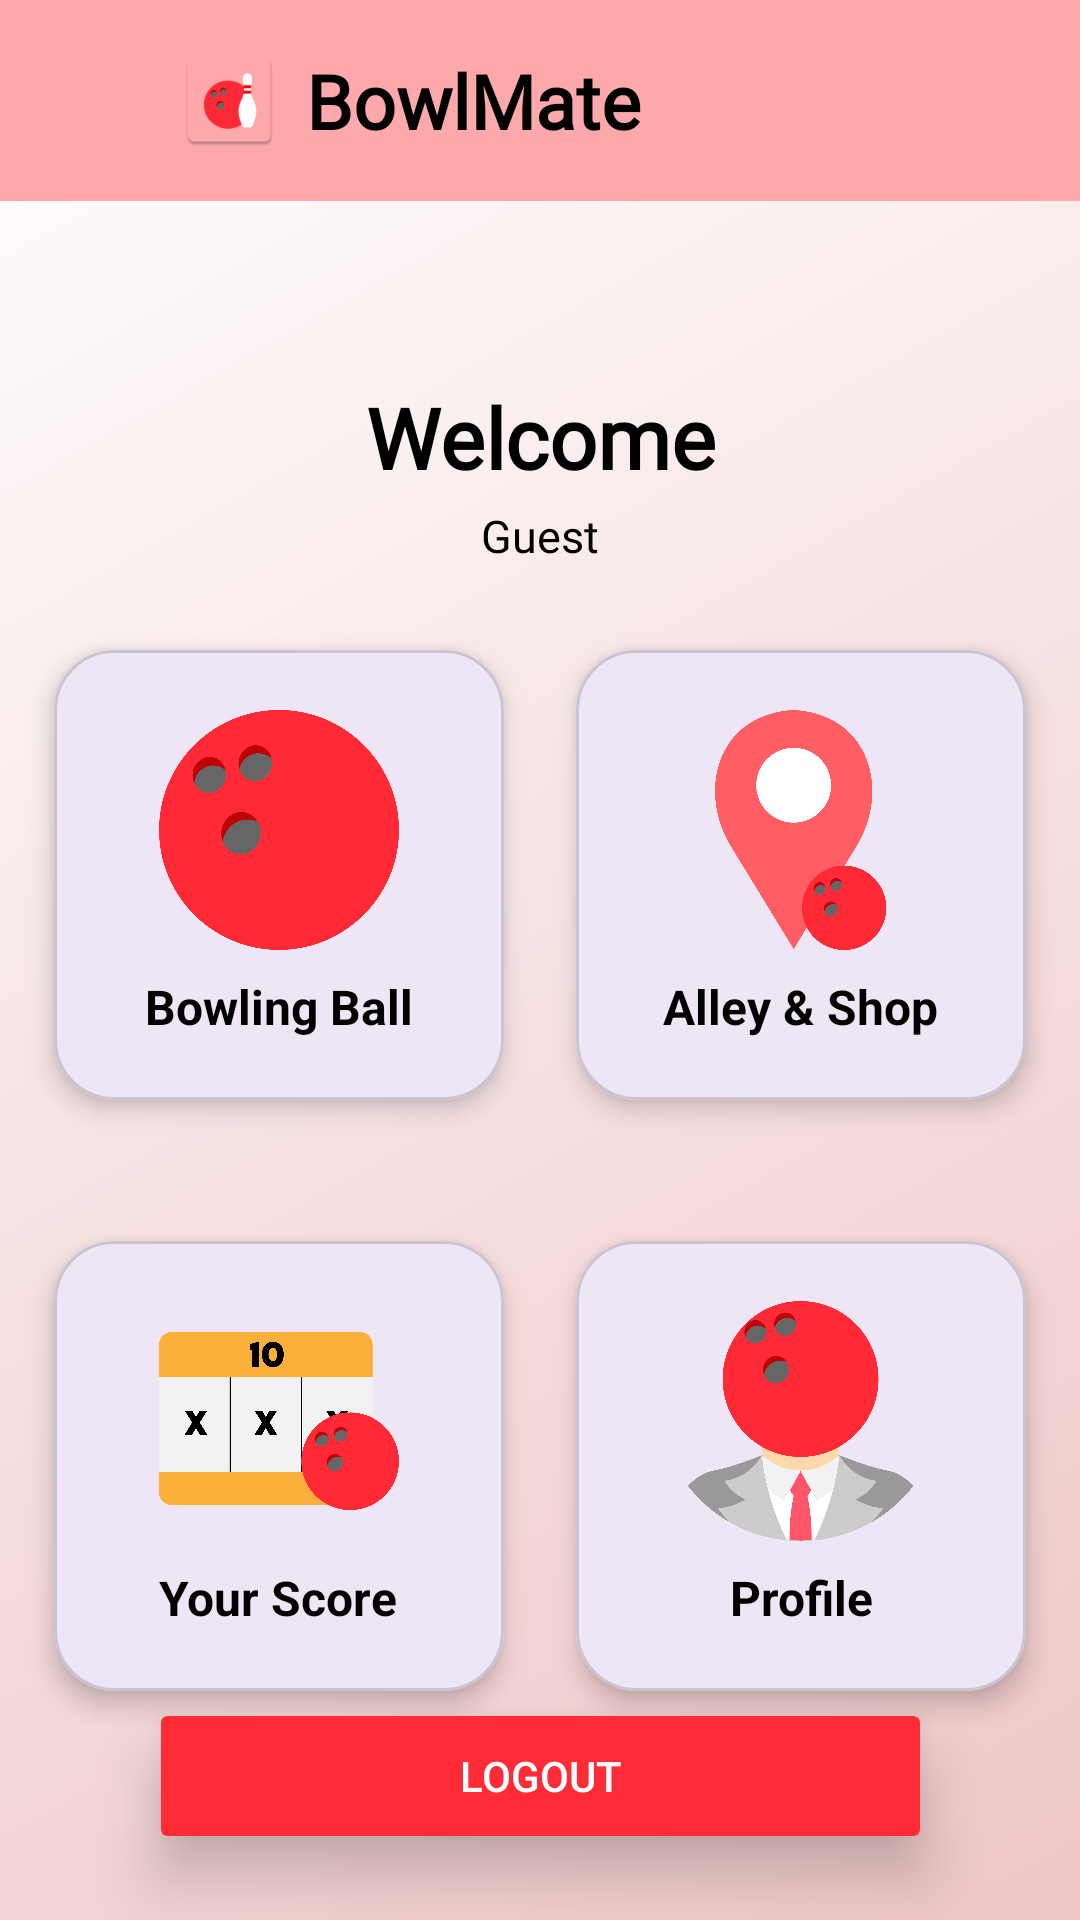

Screen size 1080x1920. Icon name, then its box in pixels as (x1, y1, x2, y2):
Shop Location: (715, 710, 886, 950)
